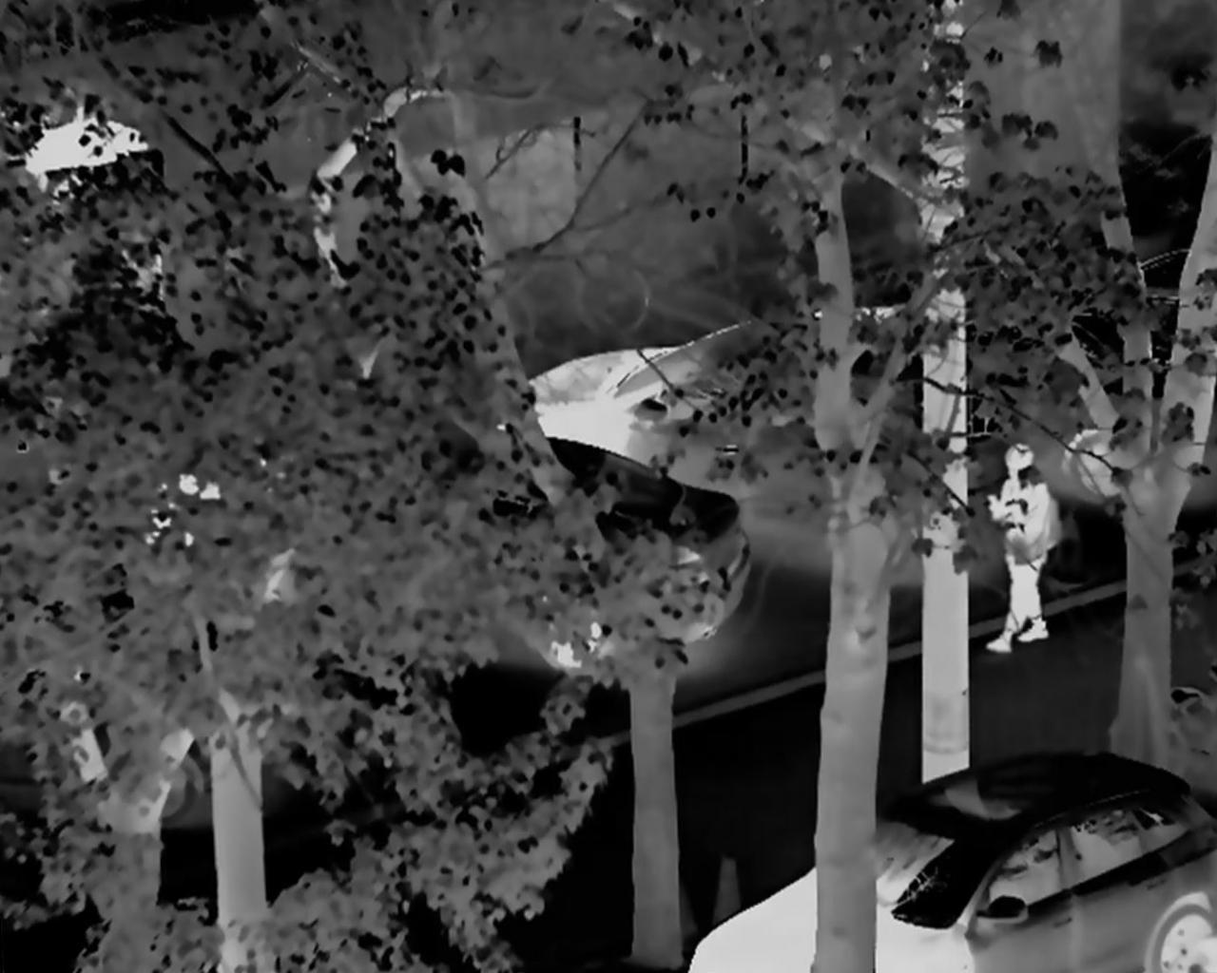person: (978, 436, 1060, 650)
